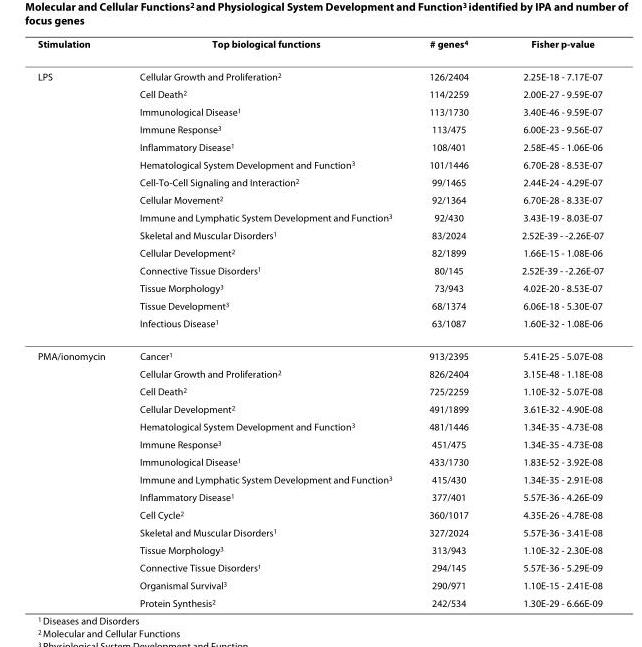table: (36, 36, 603, 608)
table column: (121, 36, 409, 608), (494, 36, 603, 608), (36, 36, 121, 608), (409, 36, 494, 608)
table column header: (36, 36, 603, 59)
table row: (36, 313, 603, 339), (36, 59, 603, 84), (36, 339, 603, 364), (36, 36, 603, 59), (36, 84, 603, 102), (36, 102, 603, 120), (36, 137, 603, 155), (36, 172, 603, 190), (36, 190, 603, 208), (36, 225, 603, 243), (36, 243, 603, 261), (36, 278, 603, 296), (36, 381, 603, 399), (36, 399, 603, 417), (36, 434, 603, 452), (36, 452, 603, 470), (36, 487, 603, 505), (36, 505, 603, 523), (36, 540, 603, 558), (36, 575, 603, 593), (36, 120, 603, 137), (36, 155, 603, 172), (36, 208, 603, 225), (36, 261, 603, 278), (36, 296, 603, 313), (36, 364, 603, 381), (36, 417, 603, 434), (36, 470, 603, 487), (36, 523, 603, 540), (36, 558, 603, 575), (36, 593, 603, 608)
table spanning cell: (36, 59, 121, 339), (36, 339, 121, 608)
